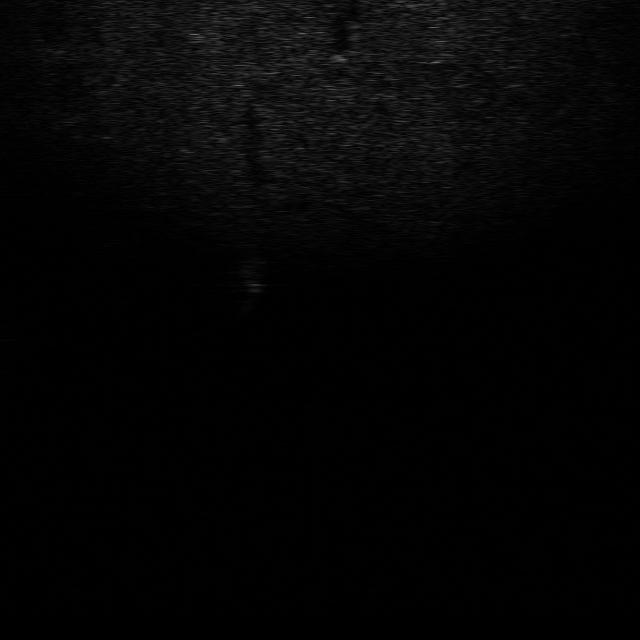human body: (234, 255, 271, 320)
